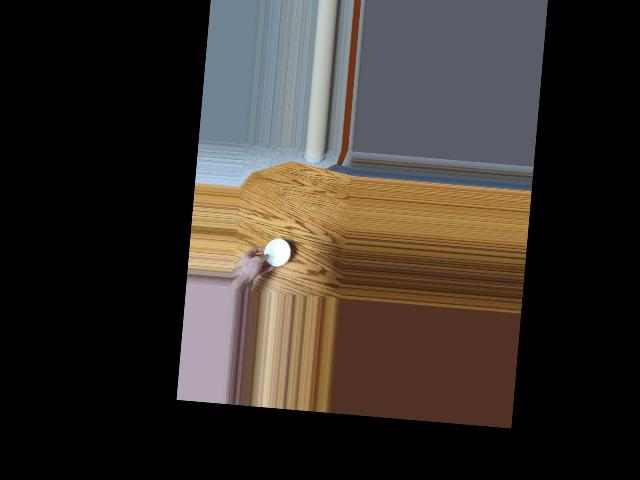cotage: (258, 234, 292, 271)
